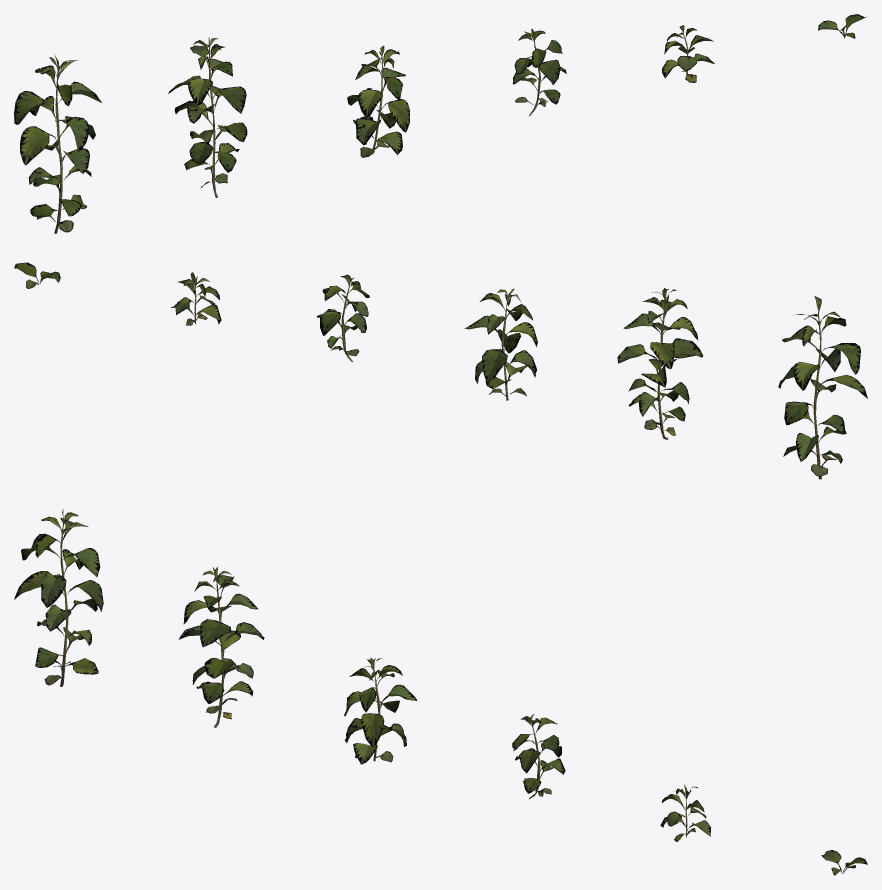
File: nettle-plant.glb
The picture shows the model from 3 angles, top to bottom: view 1: azimuth 30°, elevation 25°; view 2: azimuth 150°, elevation 25°; view 3: azimuth 330°, elevation 25°; orthographic projection.
Visible parts, largest first — view 1: nettle_plant_medium_a_LOD0; view 2: nettle_plant_medium_a_LOD0; view 3: nettle_plant_medium_a_LOD0.
Boxes of the visible parts, x1,y1,x2,y2 form: nettle_plant_medium_a_LOD0: [14, 14, 866, 233]; nettle_plant_medium_a_LOD0: [14, 262, 867, 479]; nettle_plant_medium_a_LOD0: [14, 509, 867, 875].
Bounding box in the file's own units: 1.08 × 0.218 × 0.0947.
Materials: 1 (1 with a texture image).
